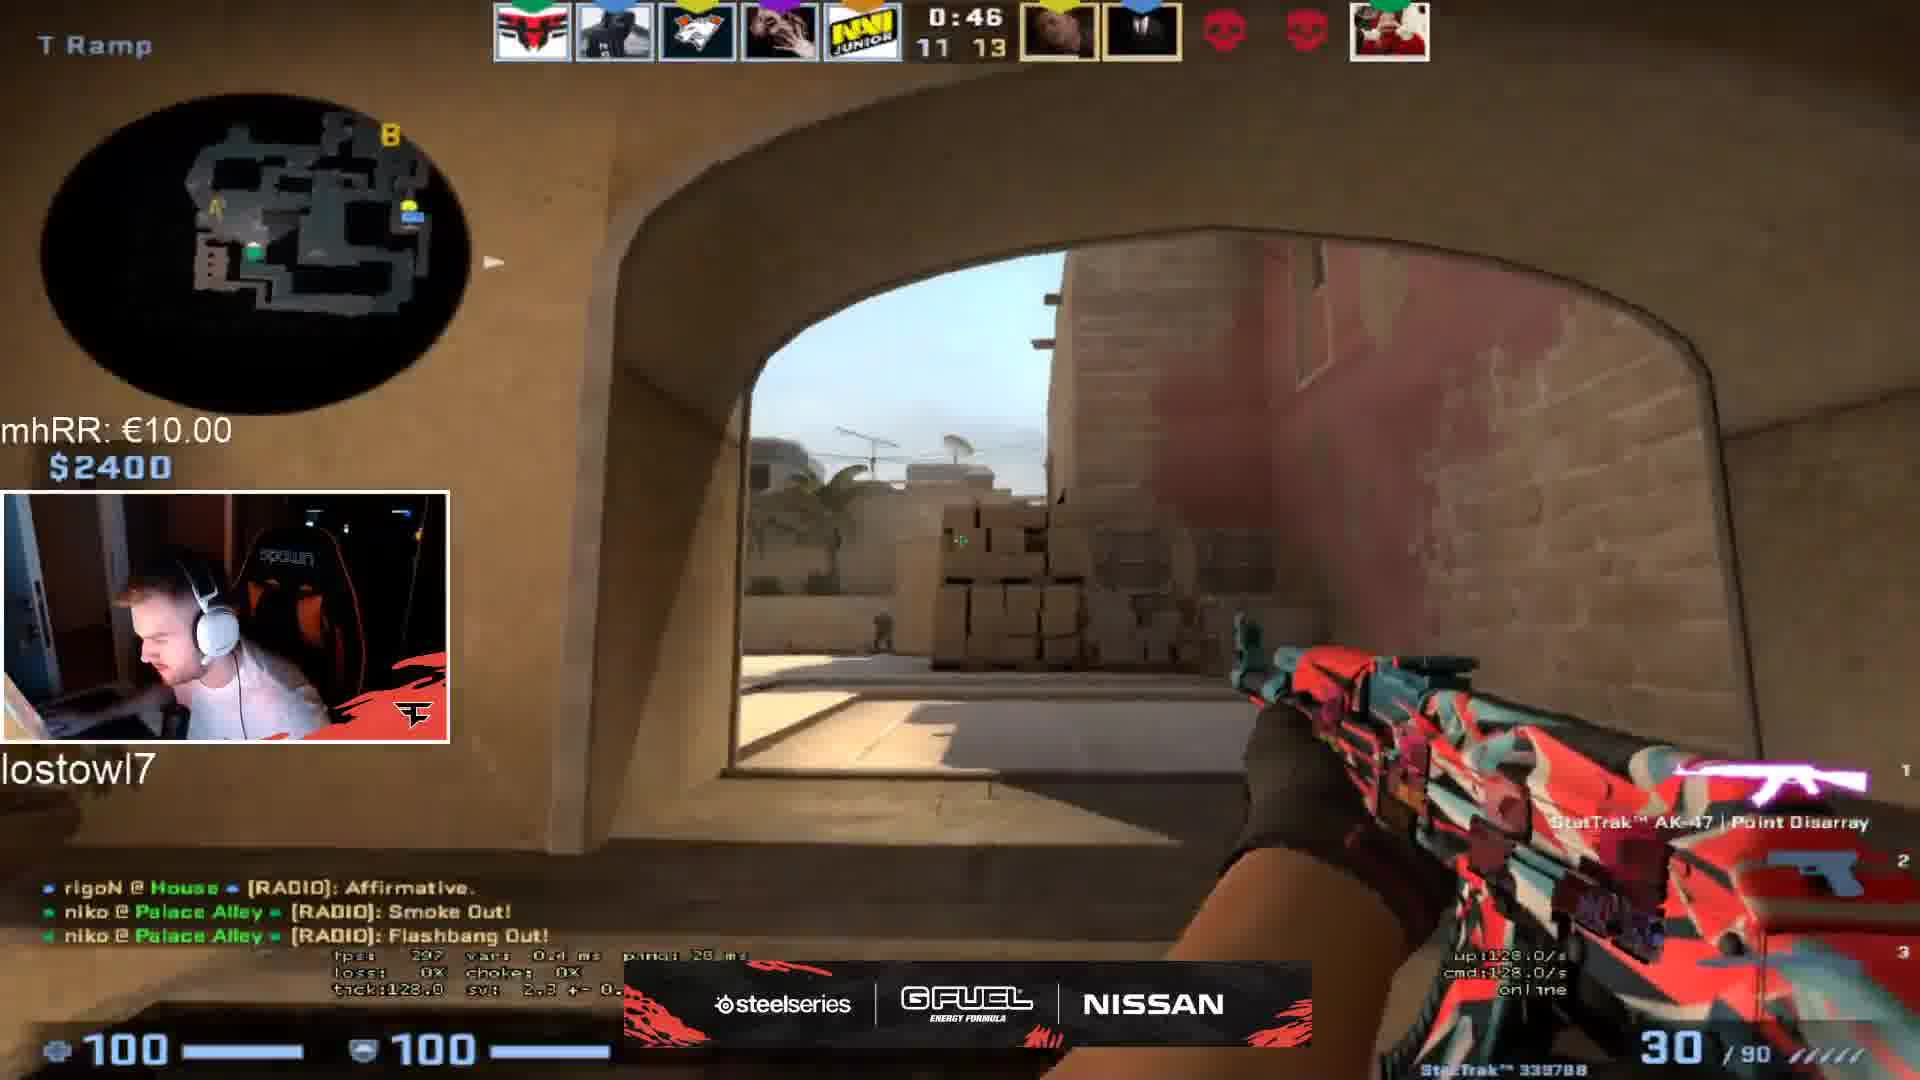enemy: (866, 609, 899, 662)
